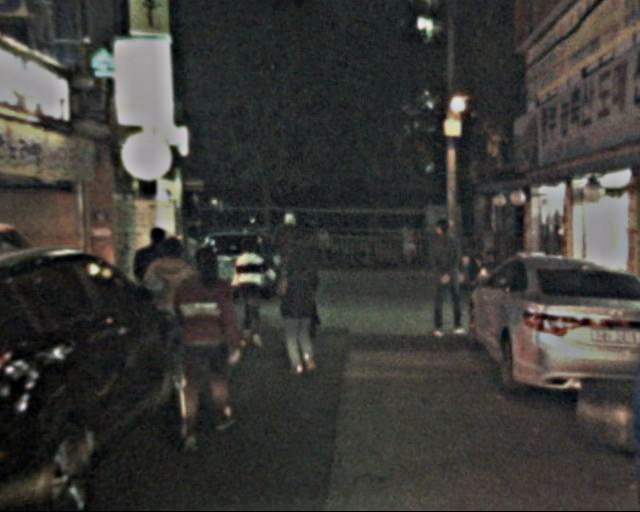person: (167, 248, 247, 445), (141, 233, 206, 382), (271, 231, 328, 380), (427, 213, 474, 344), (226, 235, 276, 352), (267, 206, 310, 310)
